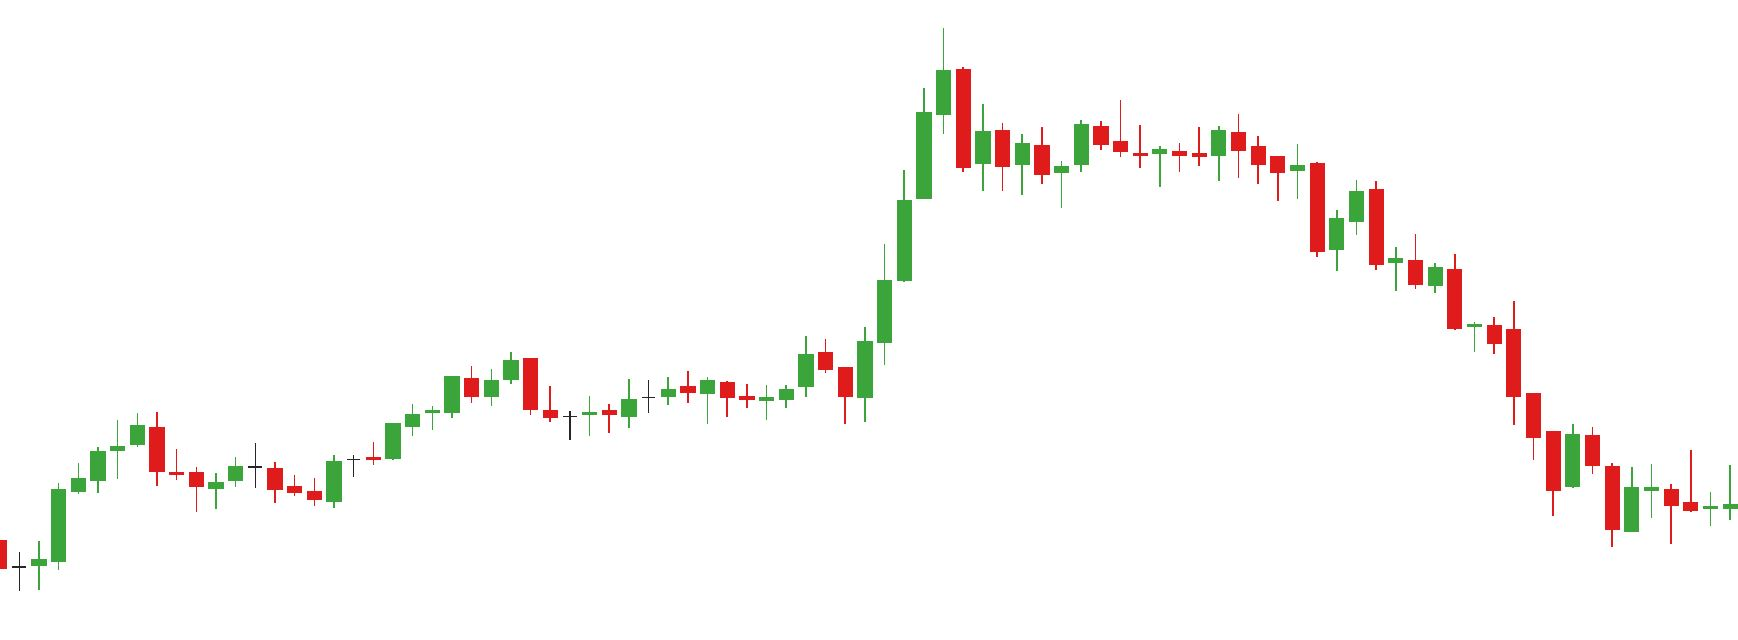buy: (756, 360, 879, 425)
